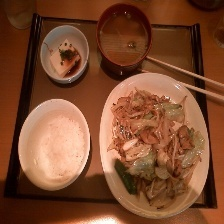rice: (40, 114, 88, 180)
